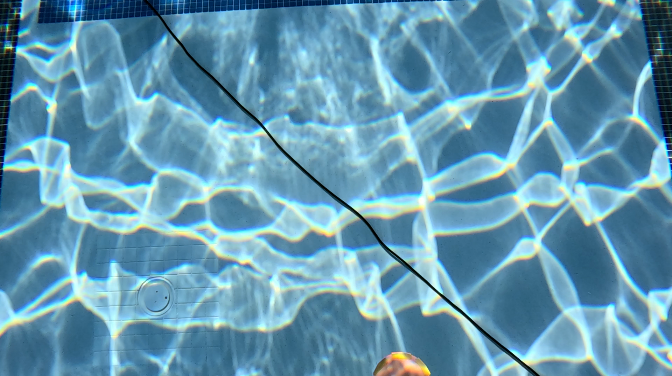pathmarker: (369, 353, 429, 375)
